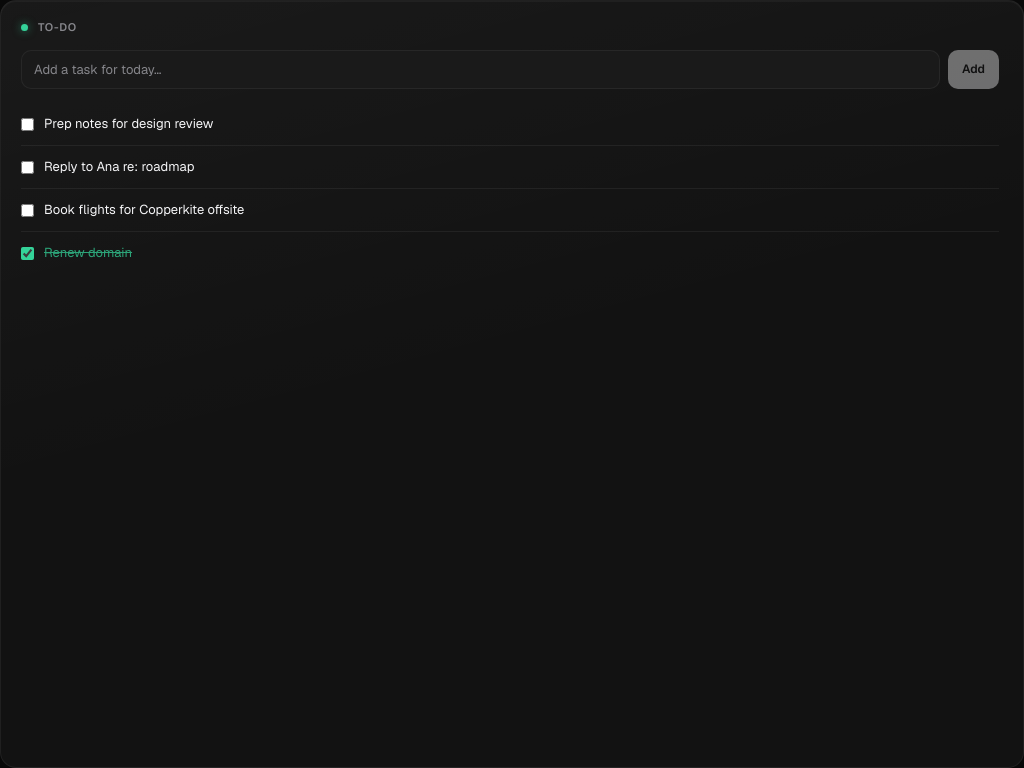
it: renders todos and toggles done state on click
Click the checkbox labelled "Prep notes for design review".
click(28, 124)  # box [21, 118, 34, 131]
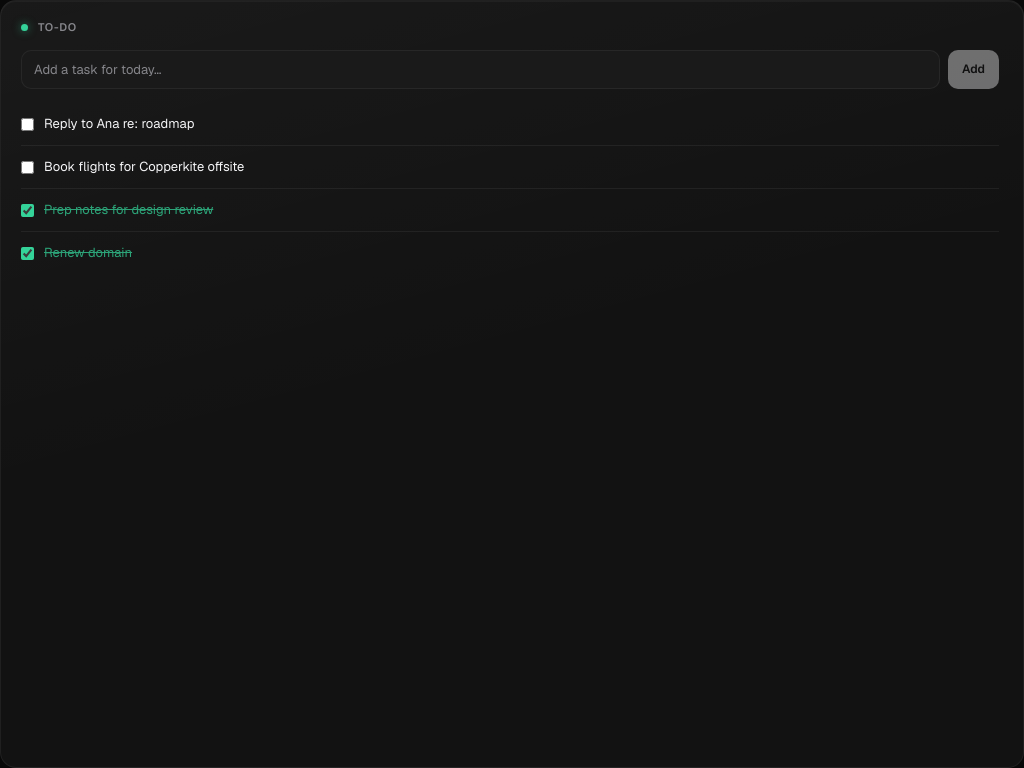
Expected: the checkbox labelled "Prep notes for design review" is checked, [21, 204, 34, 217]
